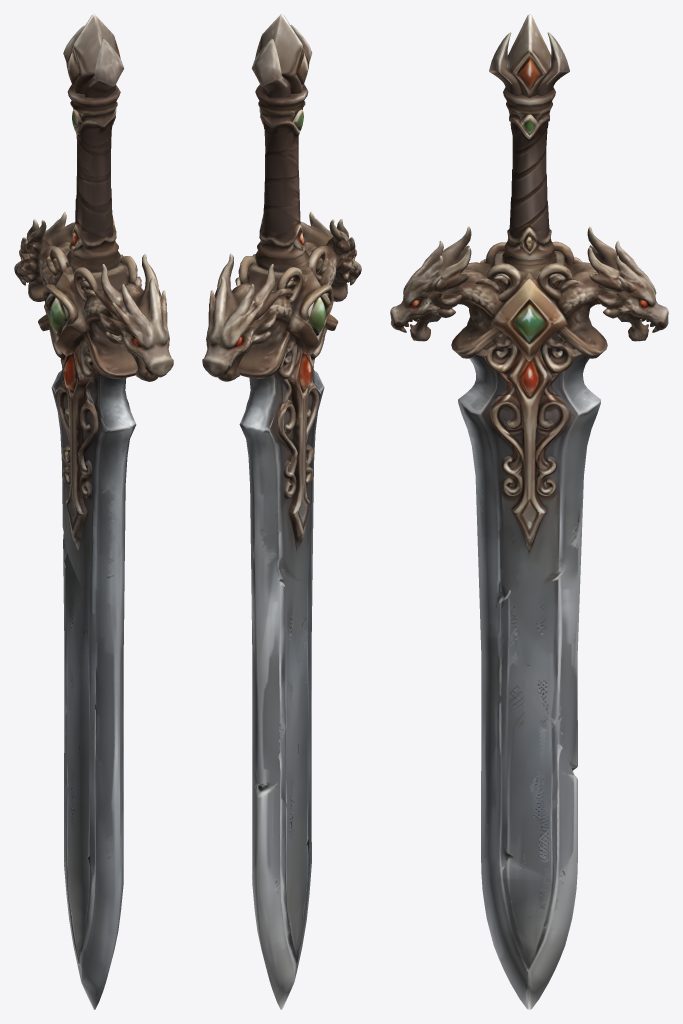
File: 03-sword.glb
3 views of the same model, side by side, from view 1: azimuth 30°, elevation 25°; view 2: azimuth 150°, elevation 25°; view 3: azimuth 270°, elevation 25° (orthographic).
Visible parts, largest first — view 1: tripo_node_6f3fd36b-91f5-4d85-ac5f-83ced576433e; view 2: tripo_node_6f3fd36b-91f5-4d85-ac5f-83ced576433e; view 3: tripo_node_6f3fd36b-91f5-4d85-ac5f-83ced576433e.
Boxes of the visible parts, left/top/right/bottom form: tripo_node_6f3fd36b-91f5-4d85-ac5f-83ced576433e: left=14, top=14, right=173, bottom=1009; tripo_node_6f3fd36b-91f5-4d85-ac5f-83ced576433e: left=202, top=14, right=361, bottom=1009; tripo_node_6f3fd36b-91f5-4d85-ac5f-83ced576433e: left=390, top=14, right=668, bottom=1009.
Size of the model in its own units: 0.0884 by 0.9995 by 0.2534.
1 material, 1 textured.
